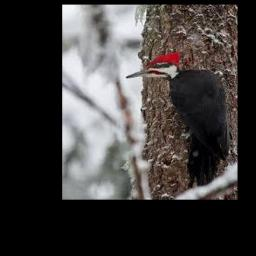Woodpecker: (126, 51, 225, 187)
